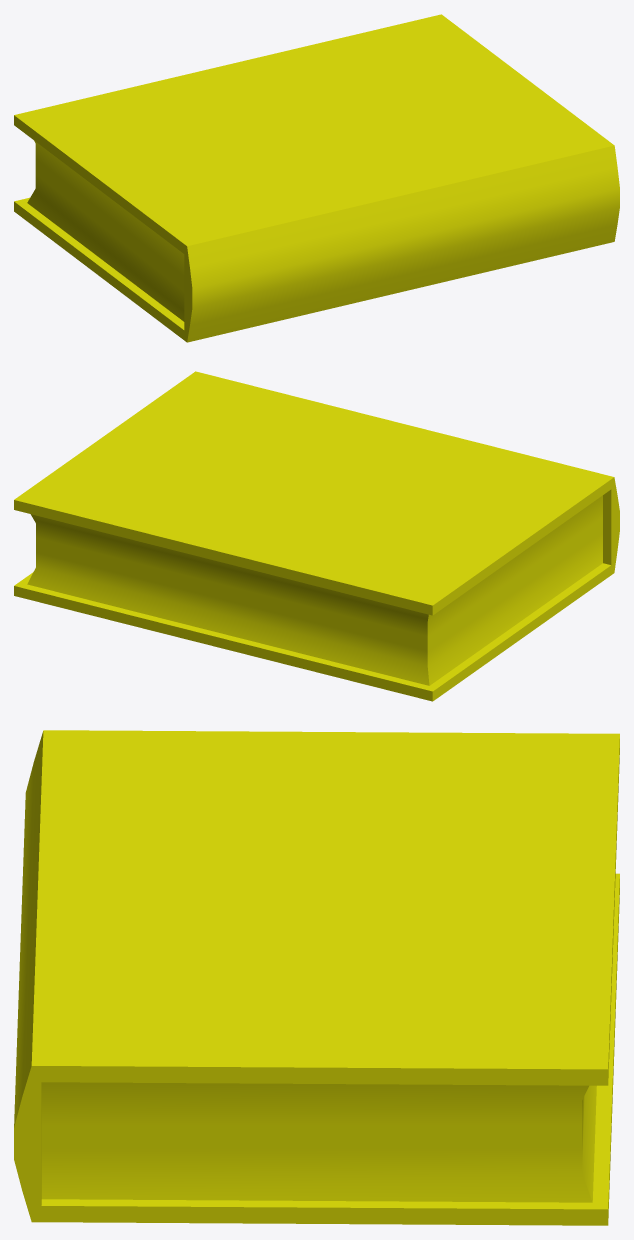
The model's file is Livres_seule_05.fbx.
The picture shows the model from 3 angles, top to bottom: view 1: azimuth 30°, elevation 25°; view 2: azimuth 150°, elevation 25°; view 3: azimuth 270°, elevation 25°; orthographic projection. The views are drawn at different scales.
Parts seen in each view (by area): view 1: Livres_seule4; view 2: Livres_seule4; view 3: Livres_seule4.
Part boxes in pixels (x1,y1,x2,y2): Livres_seule4: (14,14,619,342); Livres_seule4: (14,371,619,701); Livres_seule4: (14,730,619,1225).
Bounding box in the file's own units: 0.2578 × 0.0554 × 0.1946.
